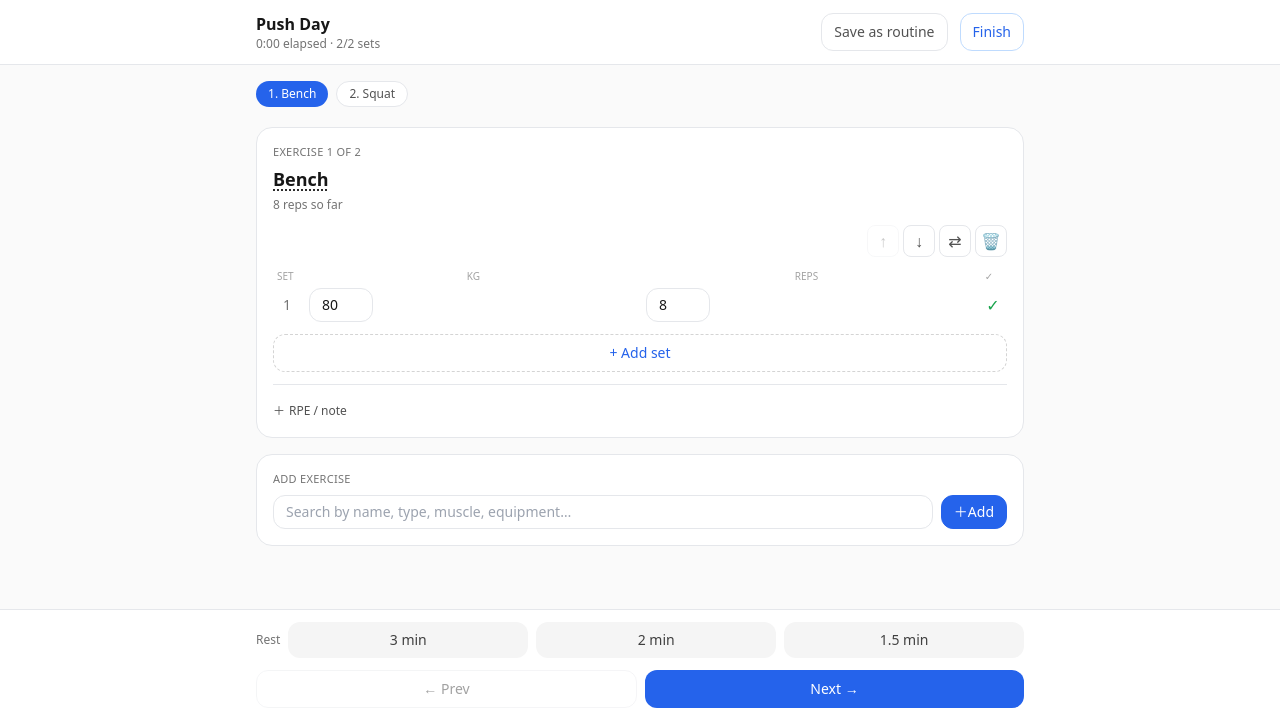
Test: LiveSession › reorders exercises and keeps the pointer on the moved one
This screenshot has width=1280, height=720.
Expected: the text "Exercise 1 of 2" is shown, [273,144,361,159]
Click the button named "Move exercise later" at (919, 240), box [903,224,935,256]
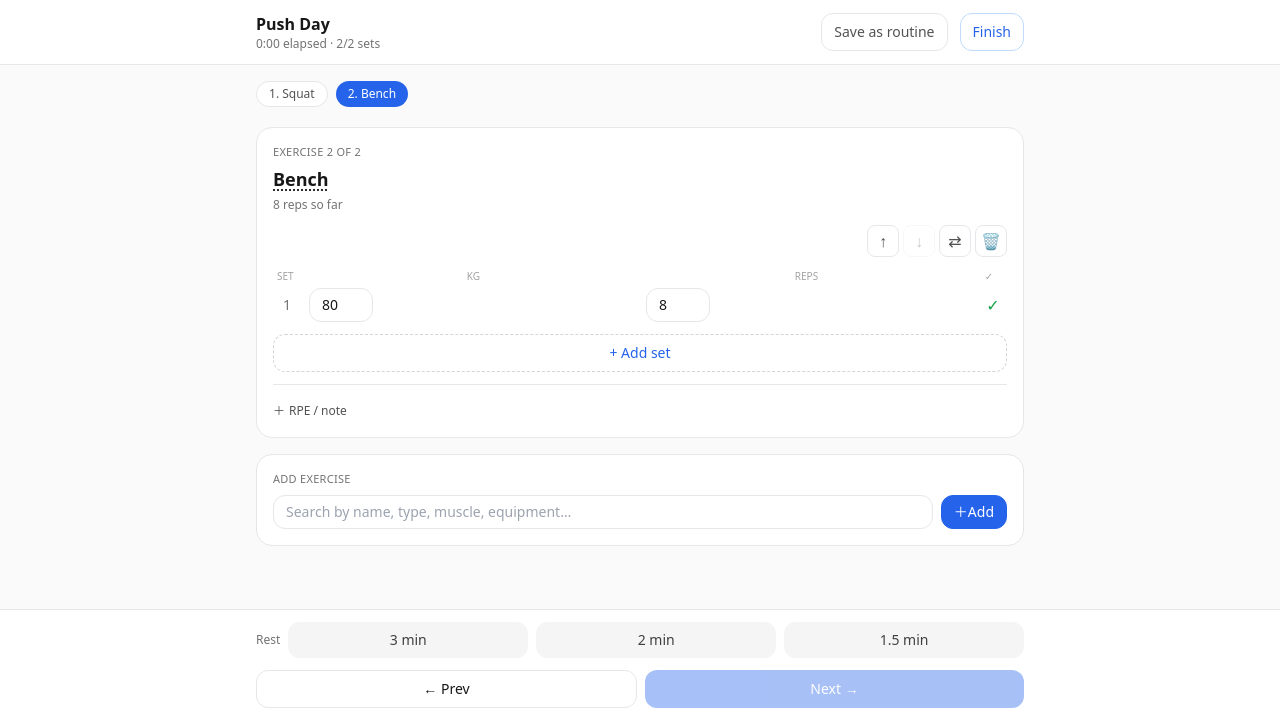
Expected: the button "Bench" is shown, [273,164,329,192]
Expected: the text "Exercise 2 of 2" is shown, [273,144,361,159]
Expected: the button "1. Squat" is shown, [256,81,328,107]
